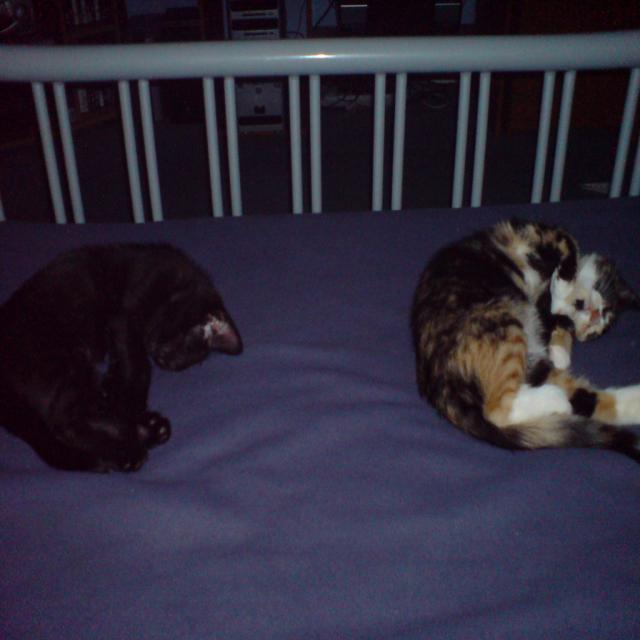Cat: (407, 216, 637, 466), (0, 238, 245, 470)
